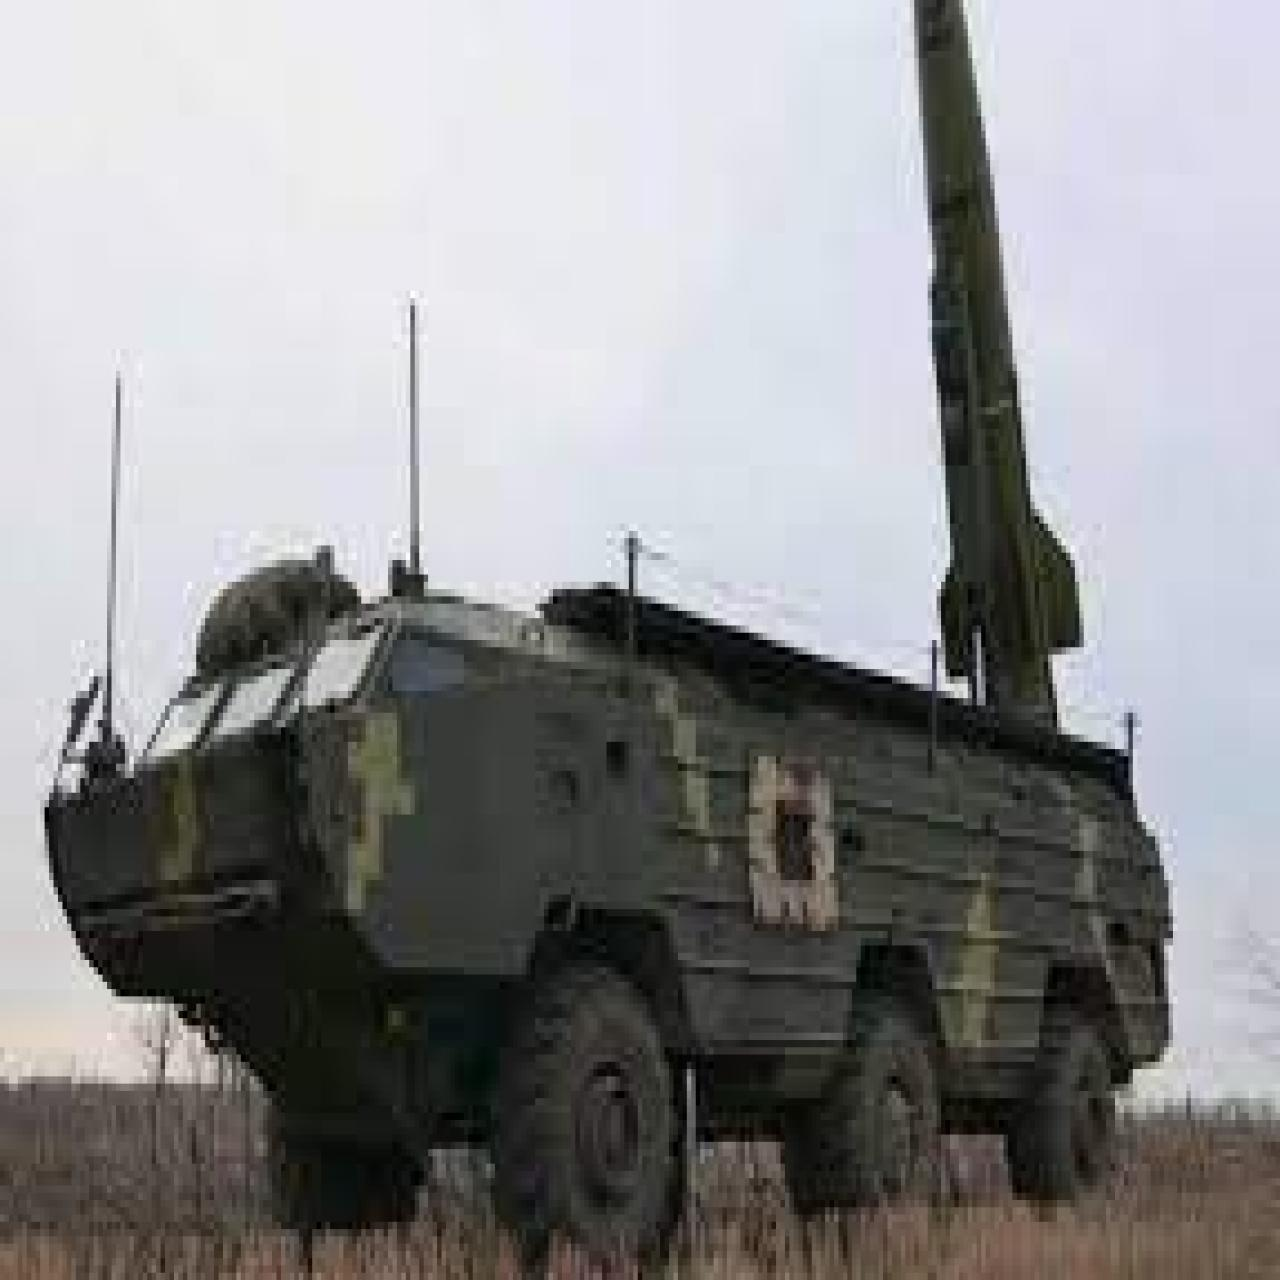MIL_Veh: (45, 4, 1172, 1220)
